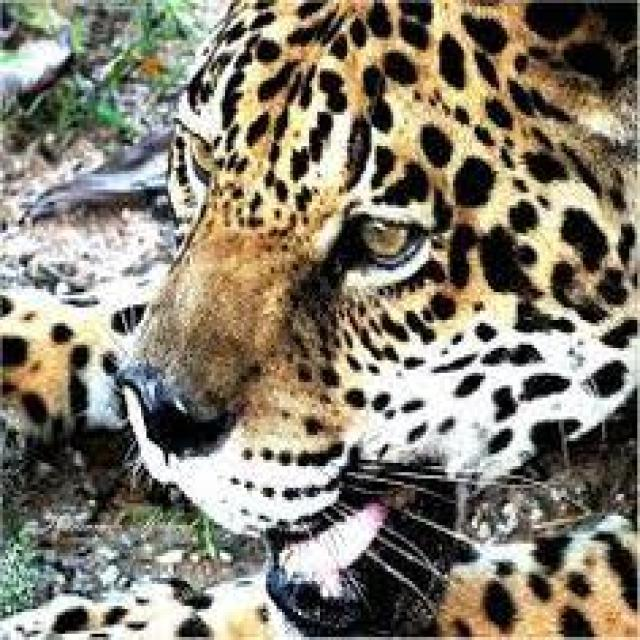Jaguar: (124, 0, 640, 637)
